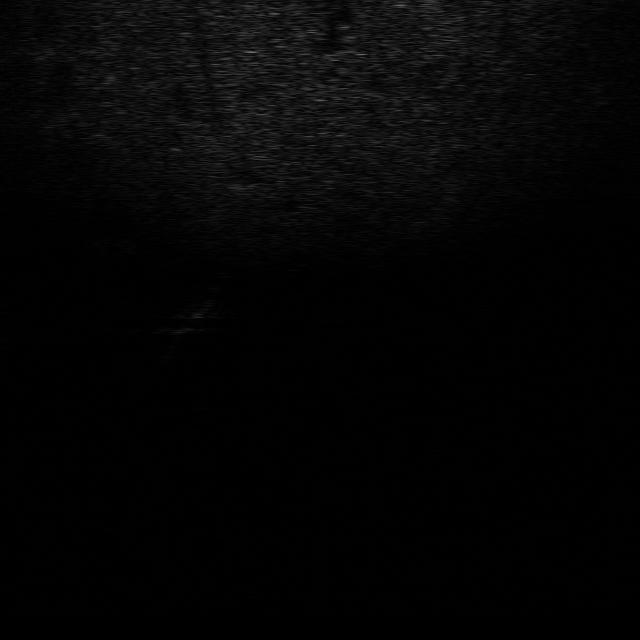human body: (148, 279, 218, 365)
